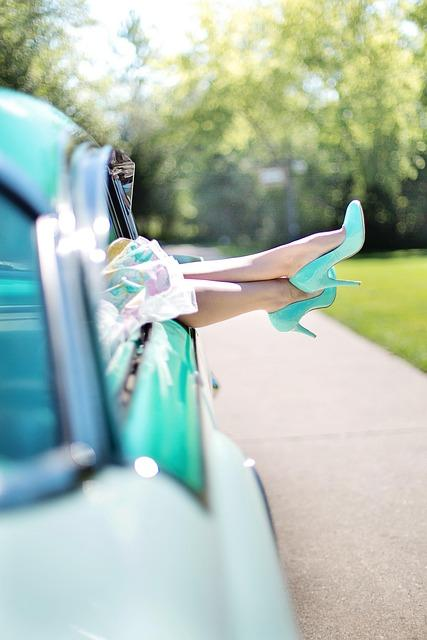Non_Gorille: (17, 80, 398, 584)
